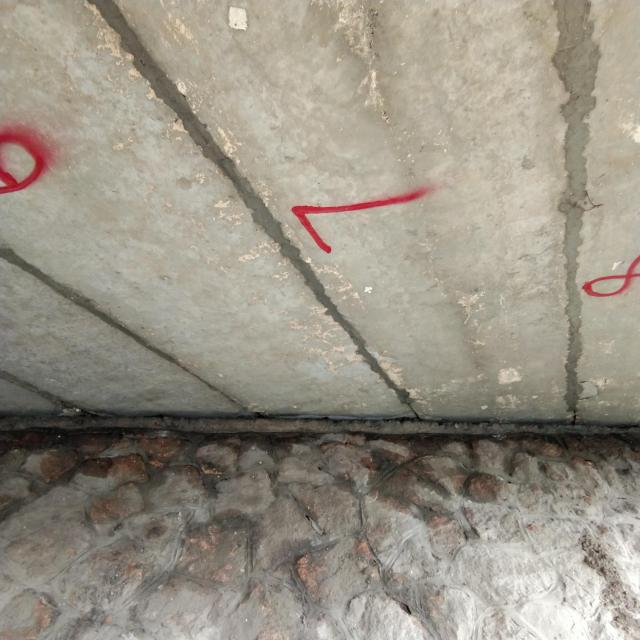horizontal crack: (574, 181, 608, 220)
vertical crack: (560, 398, 589, 432)
